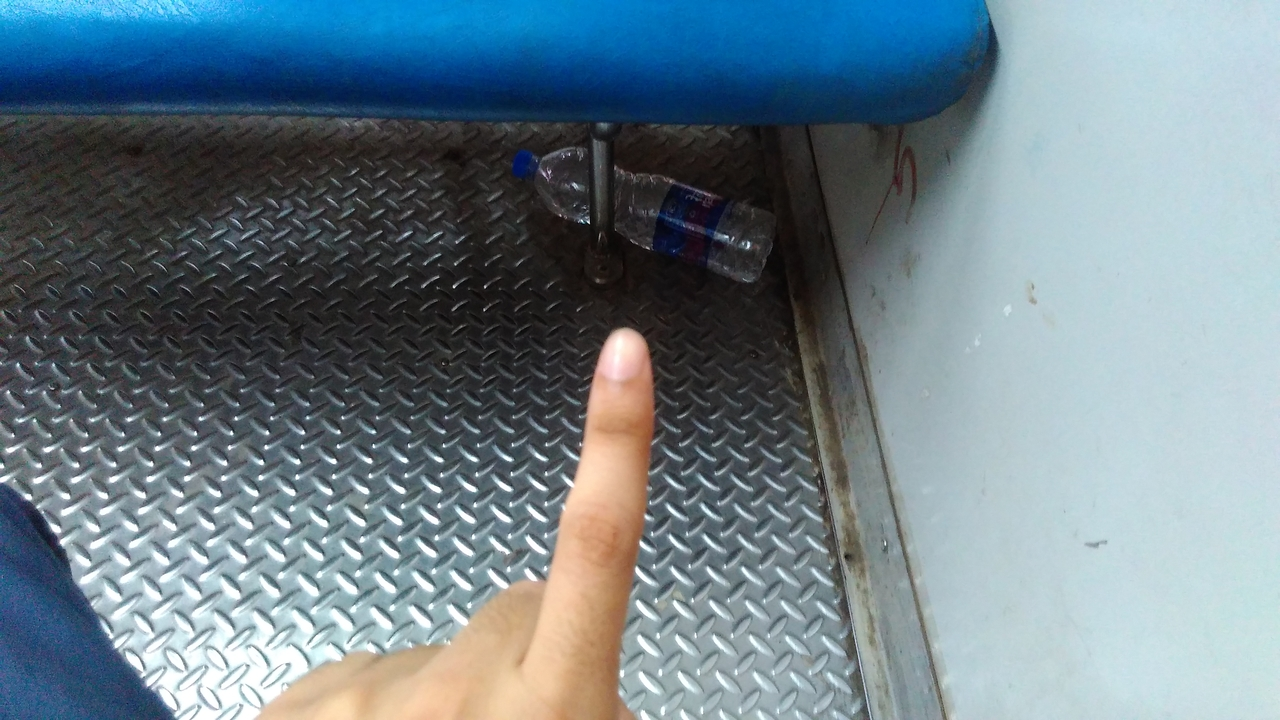fingertip: (590, 324, 656, 398)
